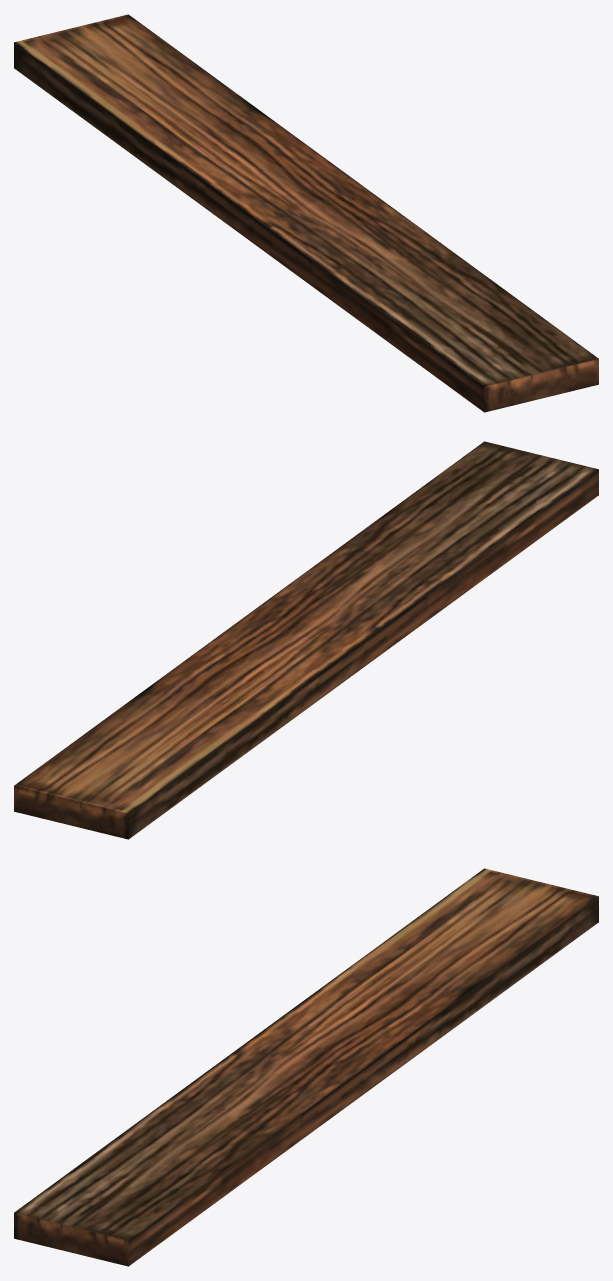
The model's file is INST_WH_PLANK_01.fbx.
The picture shows the model from 3 angles, top to bottom: view 1: azimuth 30°, elevation 25°; view 2: azimuth 150°, elevation 25°; view 3: azimuth 330°, elevation 25°; orthographic projection.
Parts seen in each view (by area): view 1: INST_WH_PLANK_01; view 2: INST_WH_PLANK_01; view 3: INST_WH_PLANK_01.
Boxes of the visible parts, box(x1,y1,x2,y2) form: INST_WH_PLANK_01: box(14, 14, 598, 412); INST_WH_PLANK_01: box(14, 441, 598, 839); INST_WH_PLANK_01: box(14, 868, 598, 1266).
Size of the model in its own units: 5693 by 1230 by 40497.
1 material, 1 textured.
